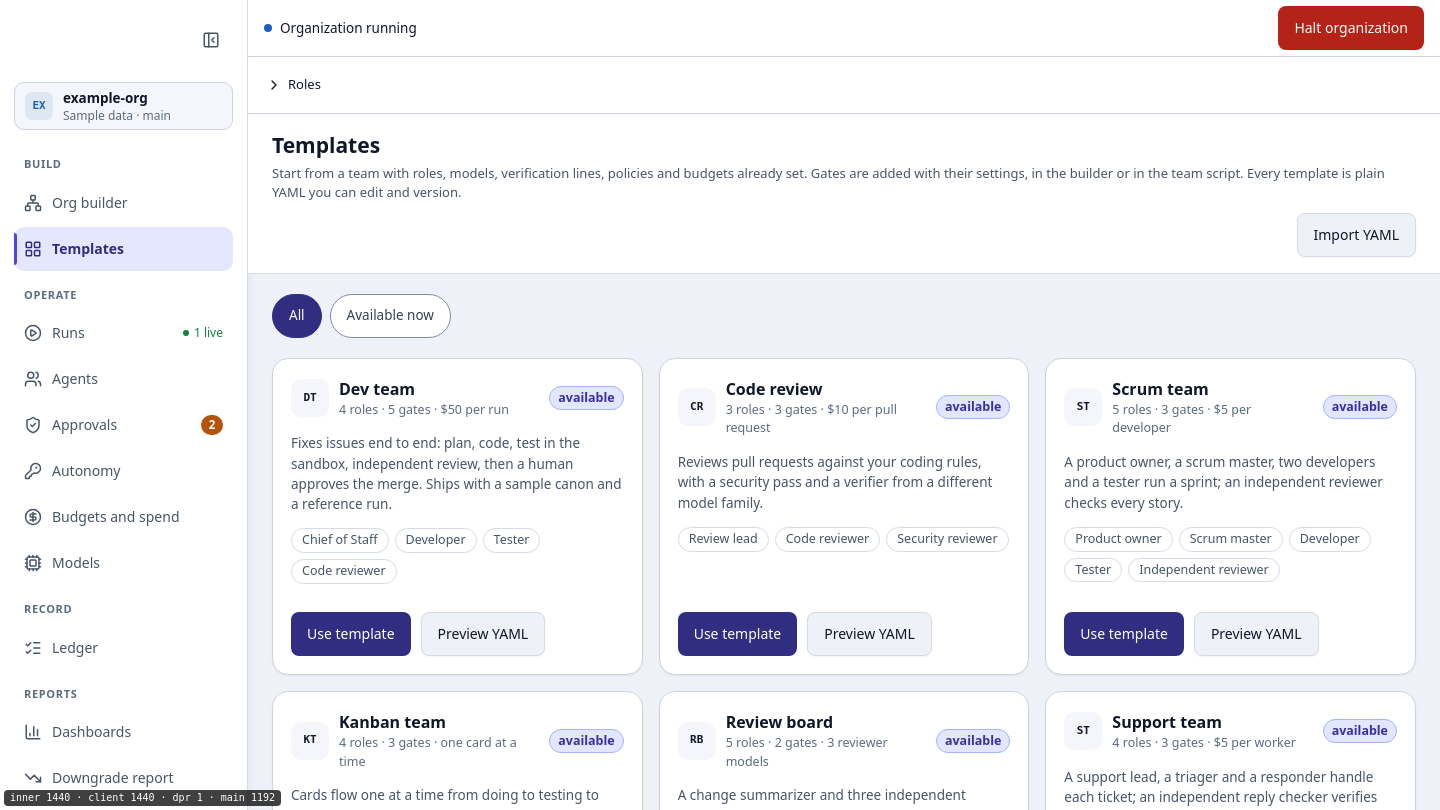
Templates › Use template opens the builder with that organization
Click the button "Use template" below "Chief of Staff". click: (351, 634)
box: [291,612,410,656]
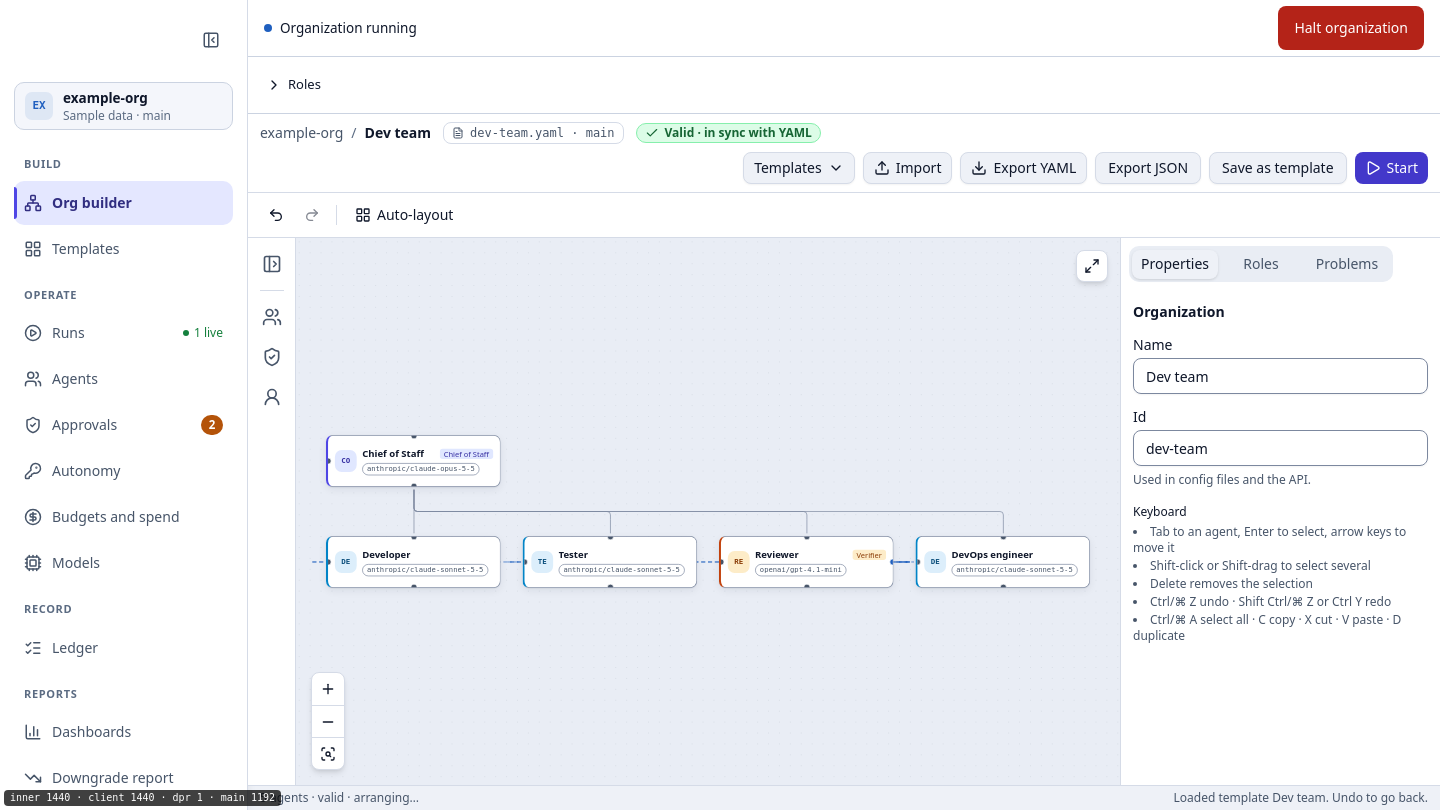
Now the element named "Organization canvas" is shown, box [296,238,1120,785]
Now the text "Loaded template Dev team. Undo to go back." is shown, box [1174,790,1428,806]
Now the text with test id "builder-summary" shows "5 agents", box [260,790,419,806]
